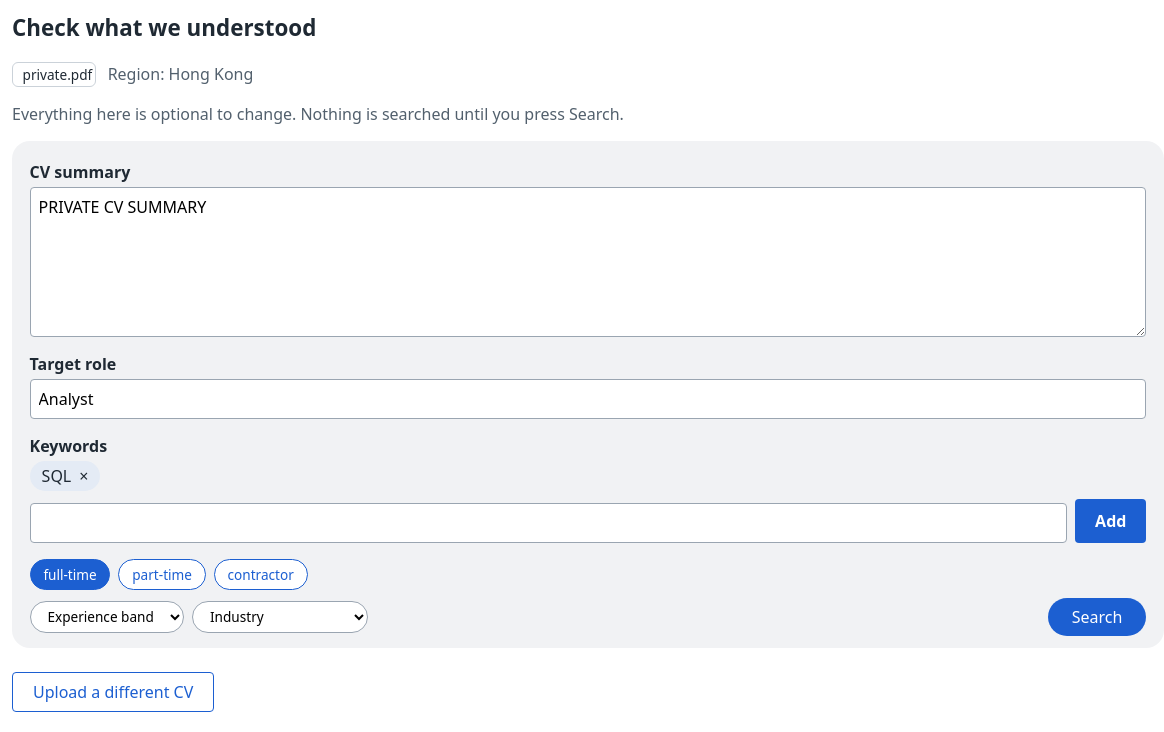
Test: clears review data when the worker cannot start
Click the button "Search": (1097, 617) [1048,598,1146,636]
Wait 2000 ms
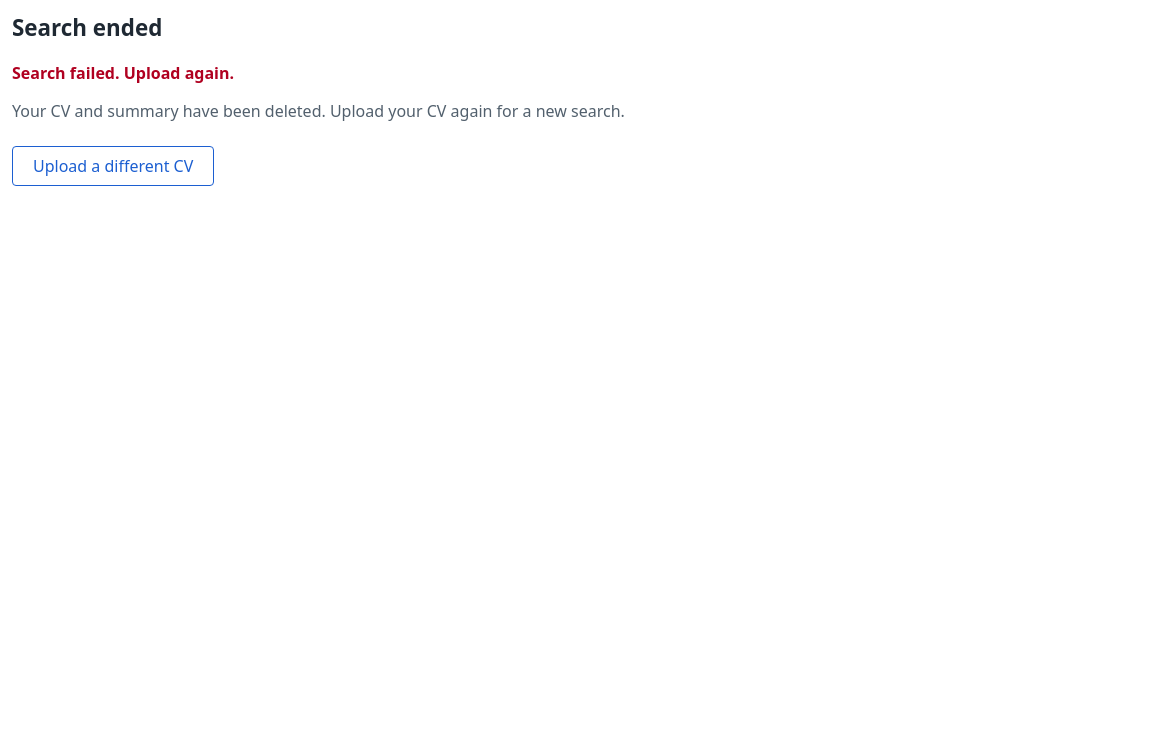
Expected: the label labelled "CV summary" is gone
Expected: the message shows "Upload again", [12,62,234,84]
